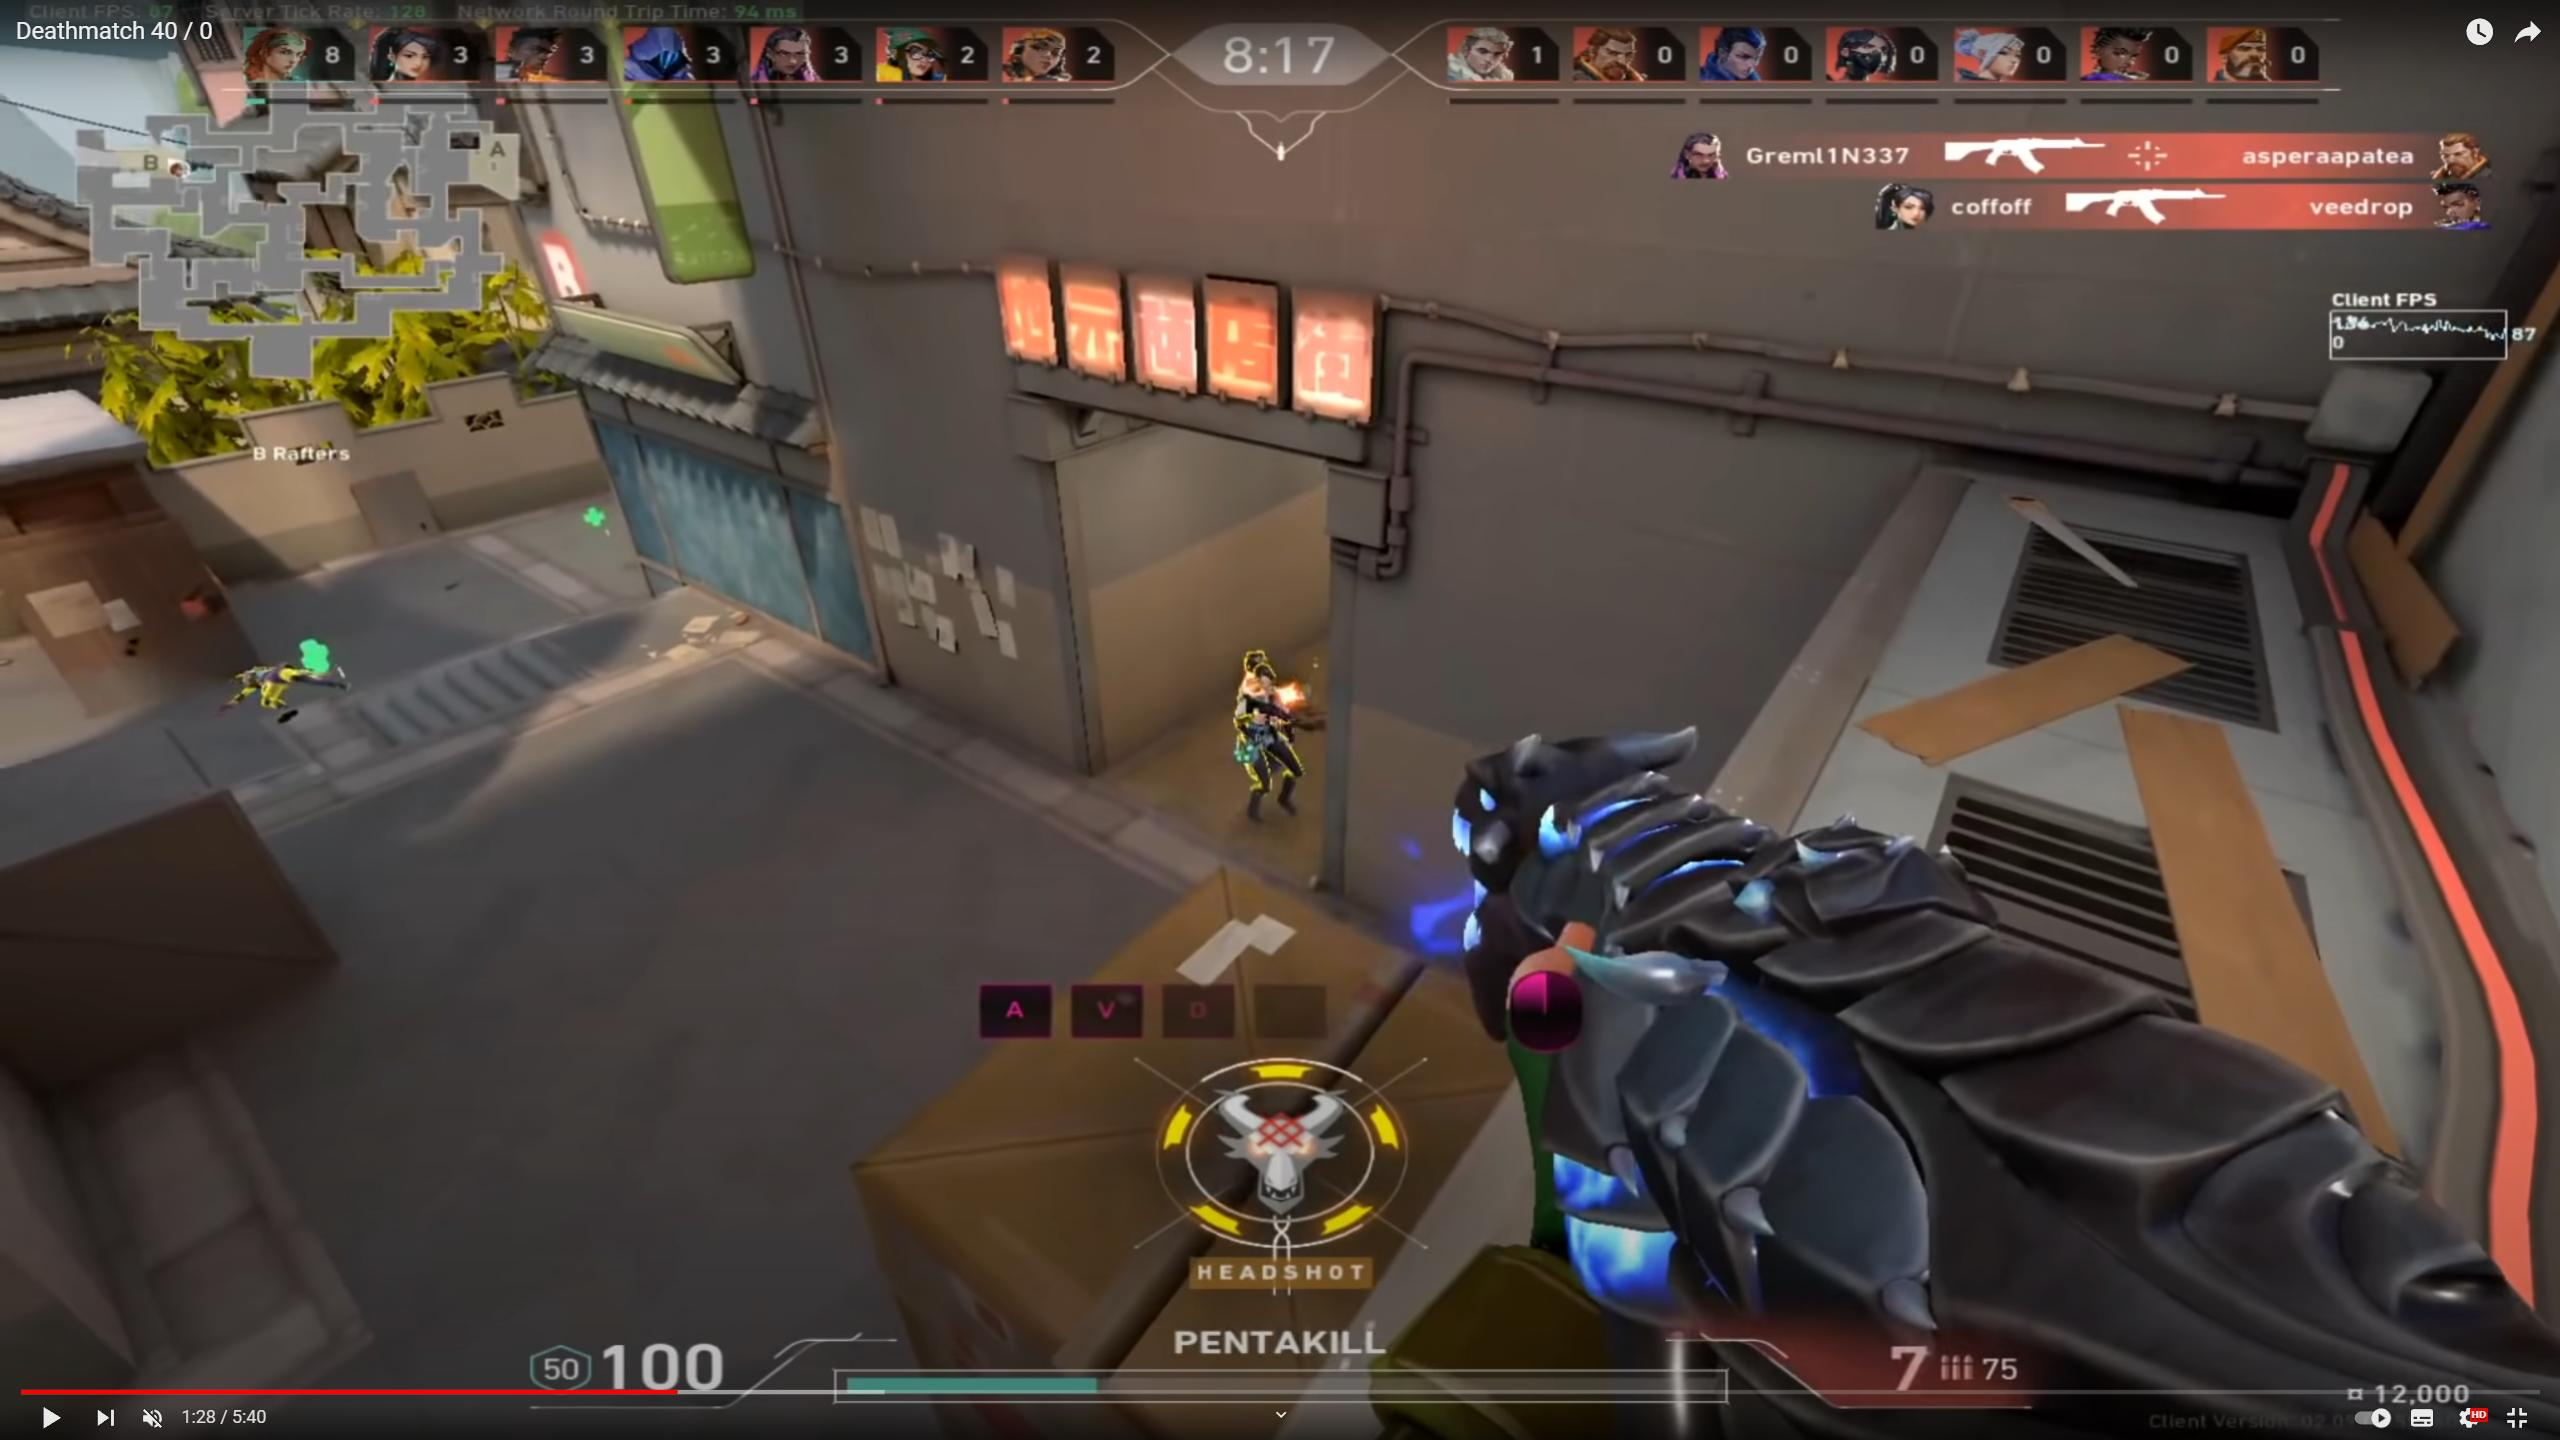enemyHead: (1241, 661, 1291, 705)
